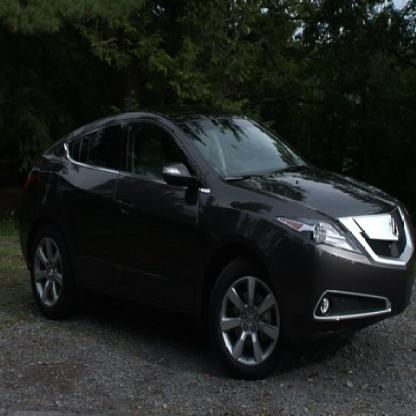car: (18, 108, 415, 382)
